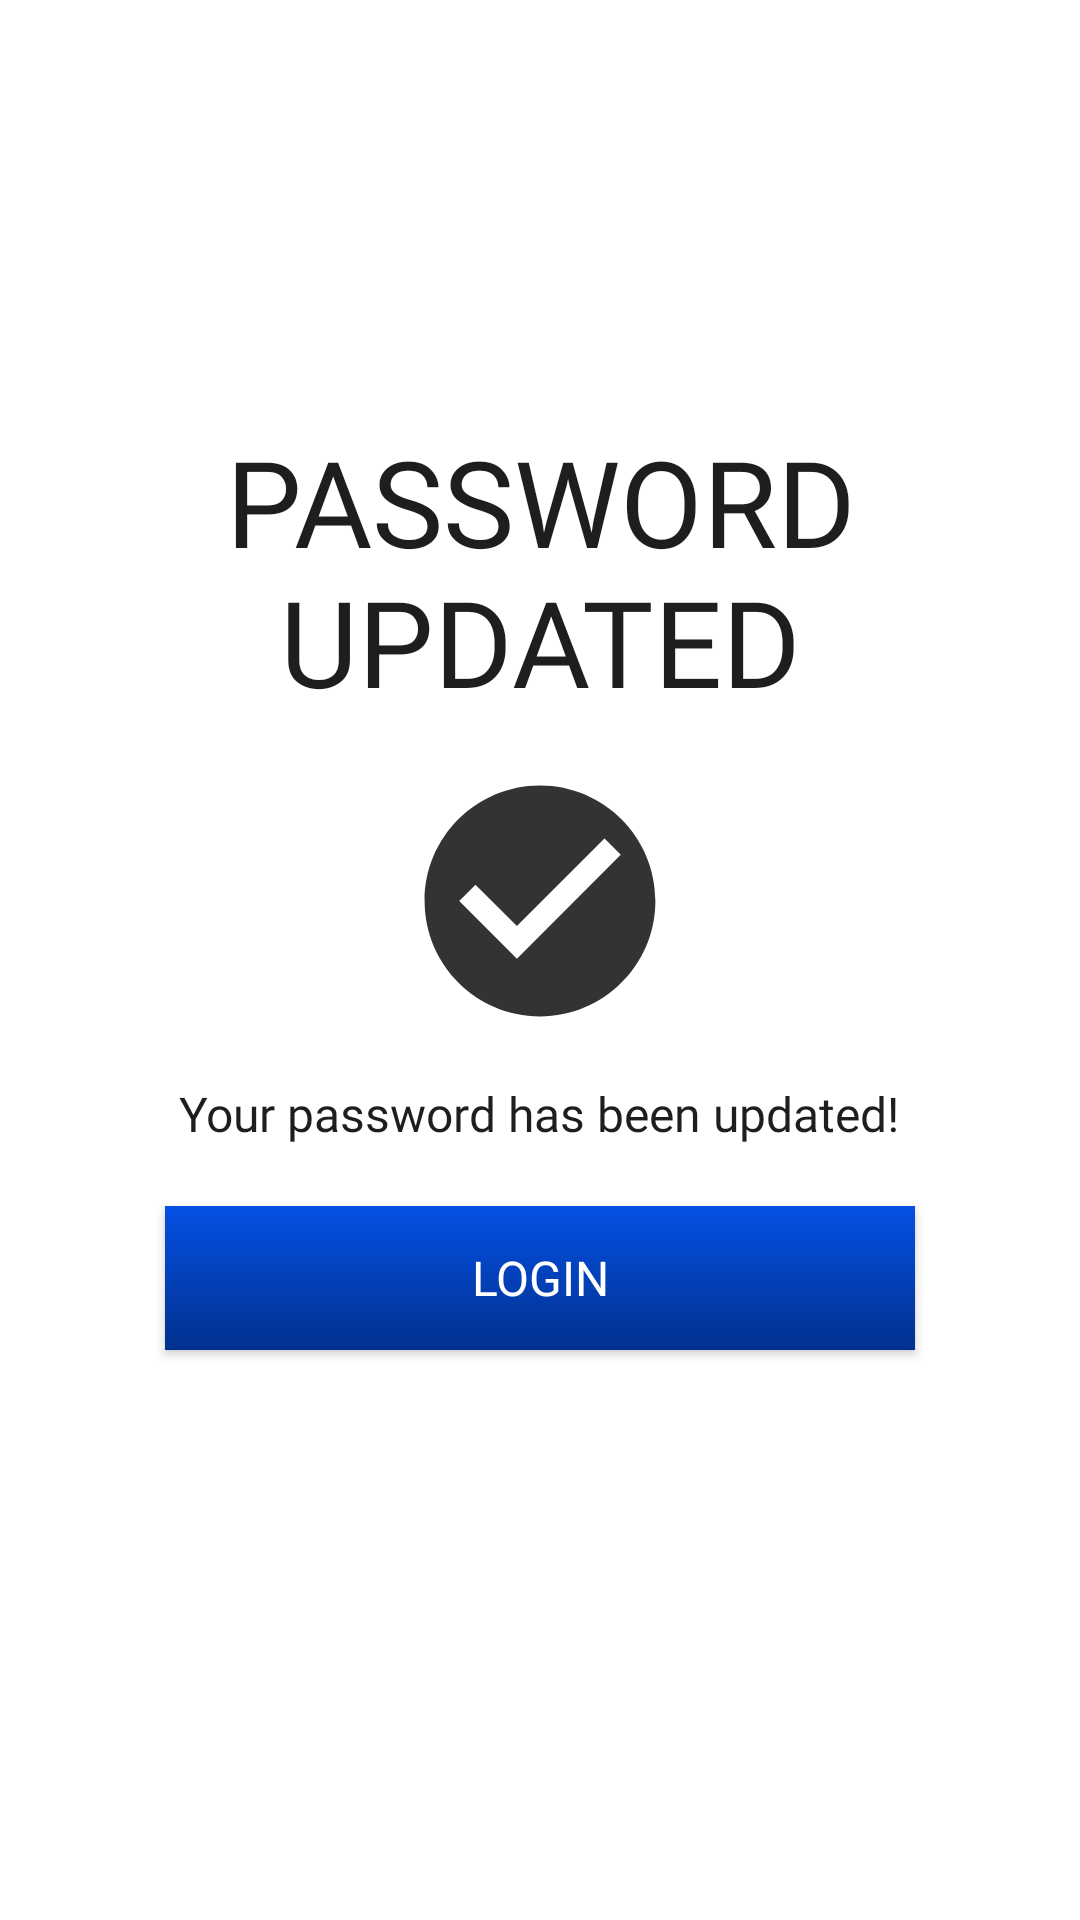

Point at icon controls on the screen. Image size 1080px x 1920px, points as [x,y].
check circle: [540,901]
